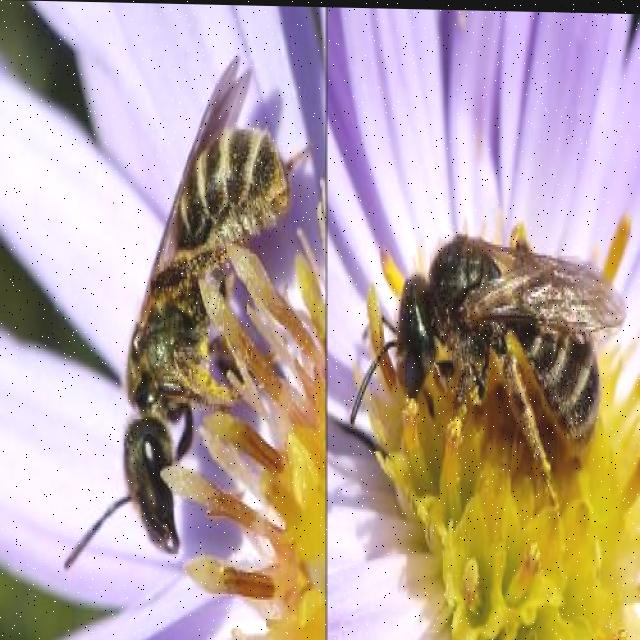Lasioglossum: (66, 42, 293, 602), (346, 203, 613, 510)
